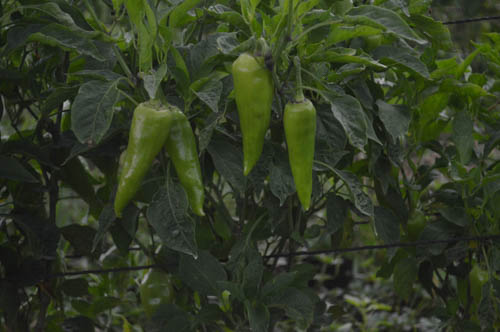ChiliPepper: (114, 103, 171, 219), (233, 51, 273, 176), (171, 110, 209, 215), (285, 97, 319, 207)
